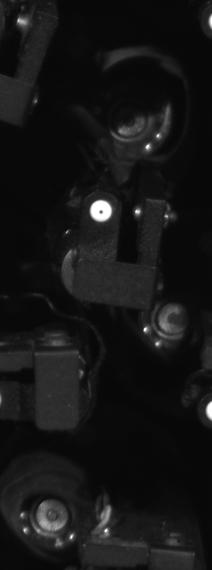fiber: (86, 195, 116, 223)
